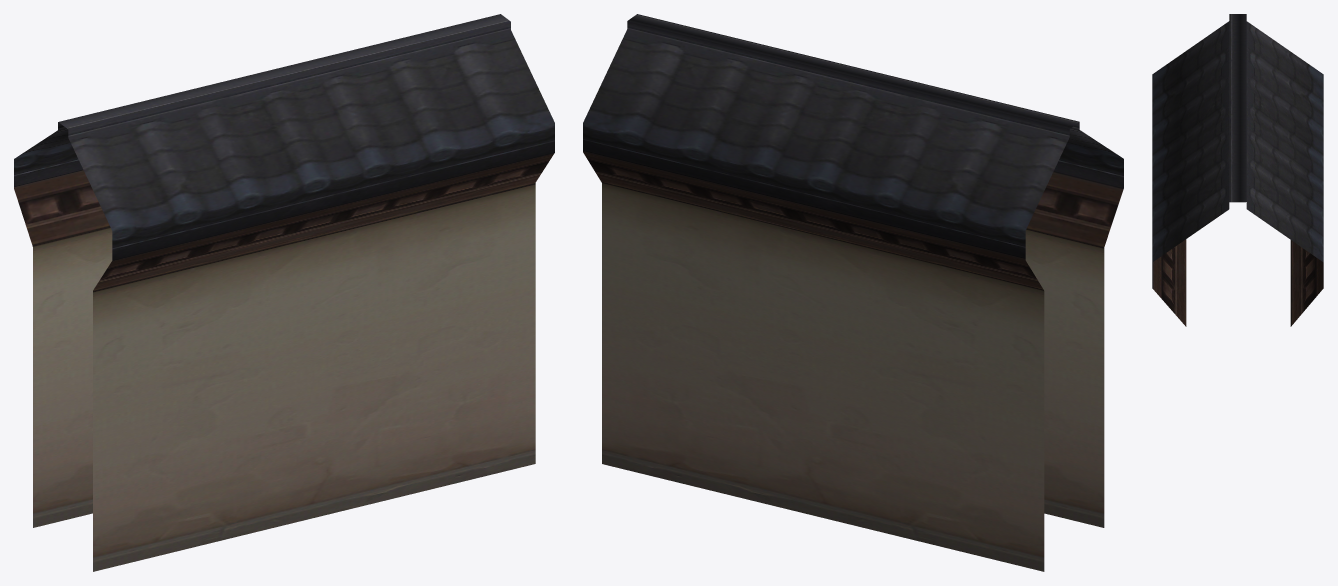
The model's file is bujian_02.fbx.
3 renders of one model, left to right at view 1: azimuth 30°, elevation 25°; view 2: azimuth 150°, elevation 25°; view 3: azimuth 270°, elevation 25°, orthographic. The views are drawn at different scales.
Visible parts, largest first — view 1: pasted__polySurface4109; view 2: pasted__polySurface4109; view 3: pasted__polySurface4109.
Boxes of the visible parts, x1,y1,x2,y2 form: pasted__polySurface4109: [14, 14, 554, 571]; pasted__polySurface4109: [583, 14, 1123, 571]; pasted__polySurface4109: [1152, 14, 1323, 326].
Size of the model in its own units: 5.08 by 4.65 by 1.95.
